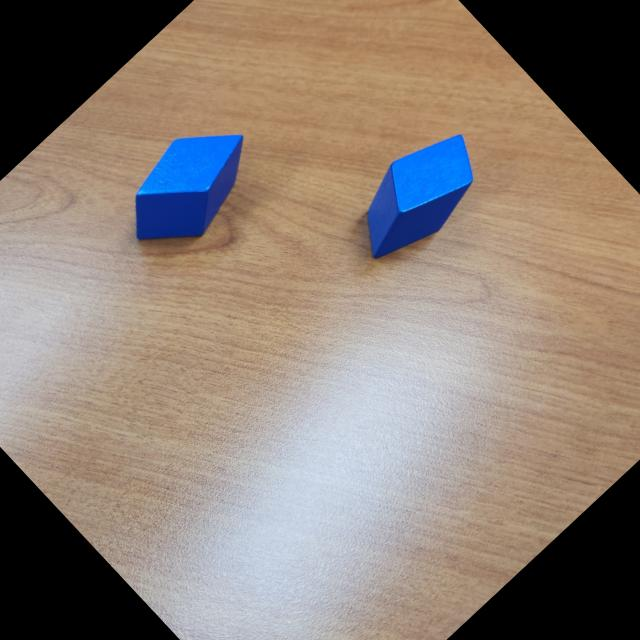blue: (103, 102, 274, 270), (332, 114, 500, 278)
